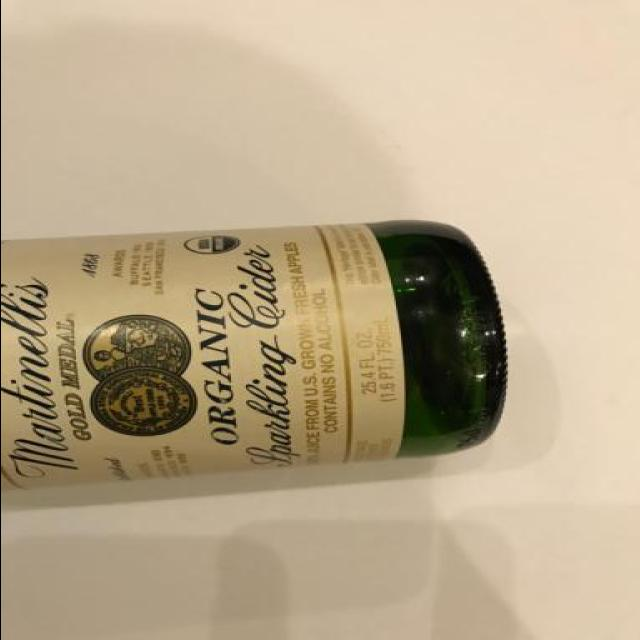Glass Bottle: (2, 217, 516, 498)
